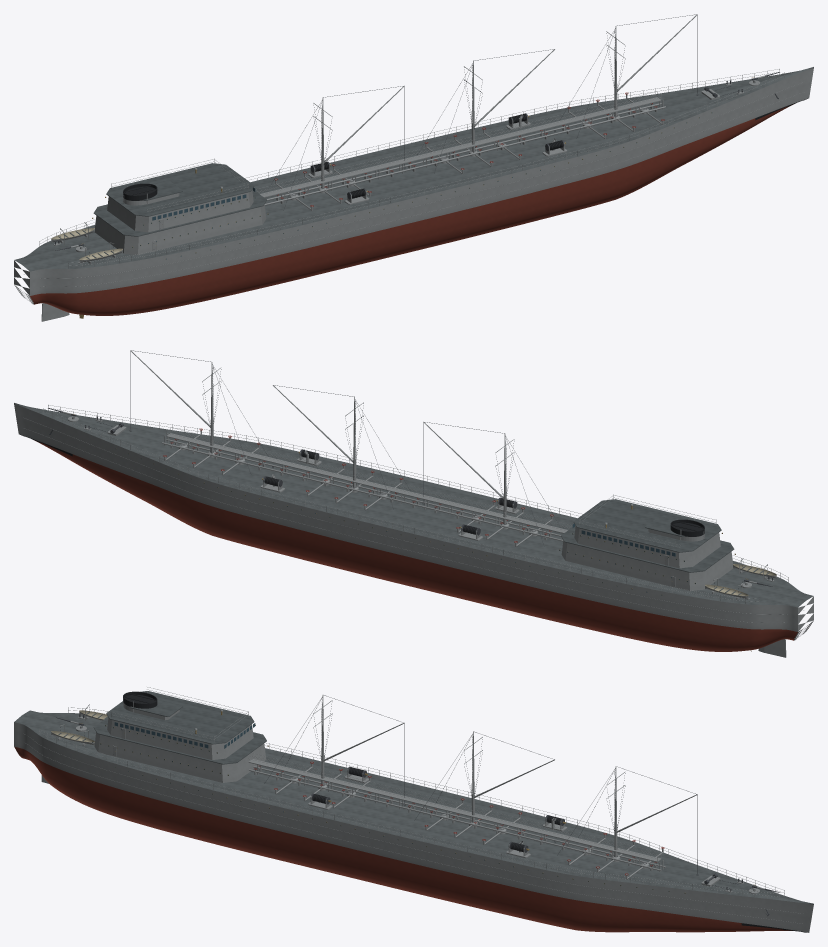
File: uk_support_1932.glb
3 renders of one model, top to bottom at view 1: azimuth 30°, elevation 25°; view 2: azimuth 150°, elevation 25°; view 3: azimuth 330°, elevation 25°, orthographic.
Visible parts, largest first — view 1: Fleet support ship · 1932; view 2: Fleet support ship · 1932; view 3: Fleet support ship · 1932.
Part boxes in pixels (x1,y1,x2,y2): Fleet support ship · 1932: (14,14,813,321); Fleet support ship · 1932: (14,350,813,657); Fleet support ship · 1932: (14,687,813,932).
Bounding box in the file's own units: 144 × 27.6 × 18.09.
10 materials, 9 textured.
